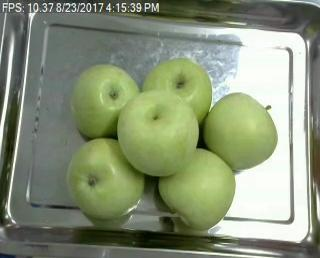Apple: (116, 92, 198, 177), (71, 137, 146, 224), (159, 148, 236, 232), (202, 92, 279, 172), (70, 64, 143, 137), (143, 57, 212, 122)
